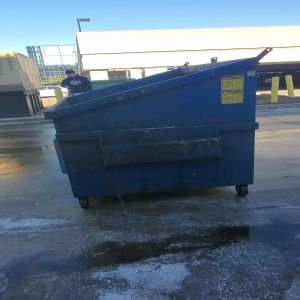Dumpster: (44, 94, 265, 214)
Person: (60, 68, 92, 92)
